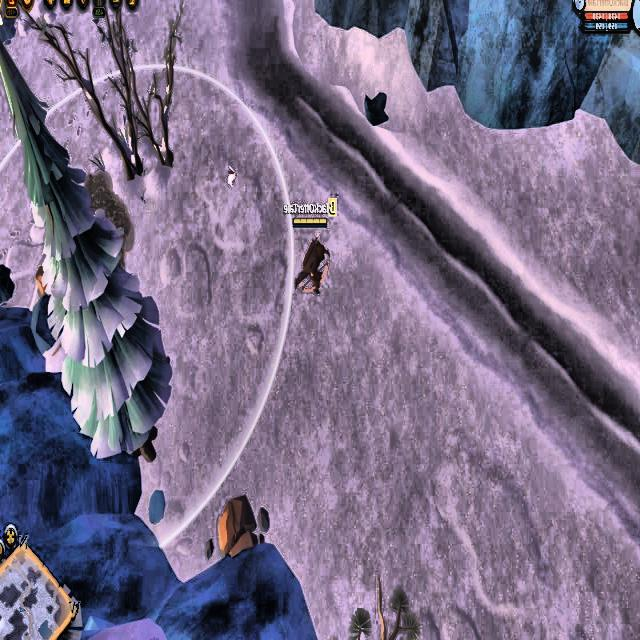copperore: (0, 252, 17, 308)
limestone: (204, 486, 268, 566)
